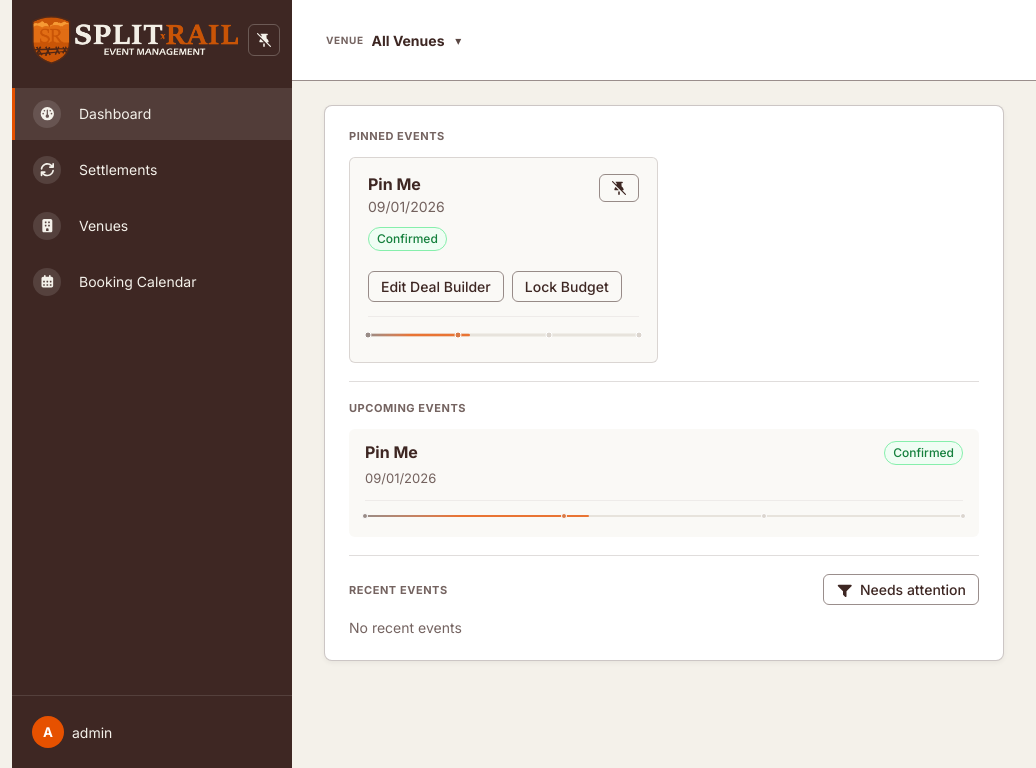
Scenario: DashboardOverviewPage › unpin removes event from pinned zone after refetch
The width and height of the screenshot is (1036, 768).
expect the heading "Pin Me" below "Pinned events" is shown: met, box [368,174,421,194]
Click the button named "Unpin event". click: click(619, 188)
box: [599,174,639,202]
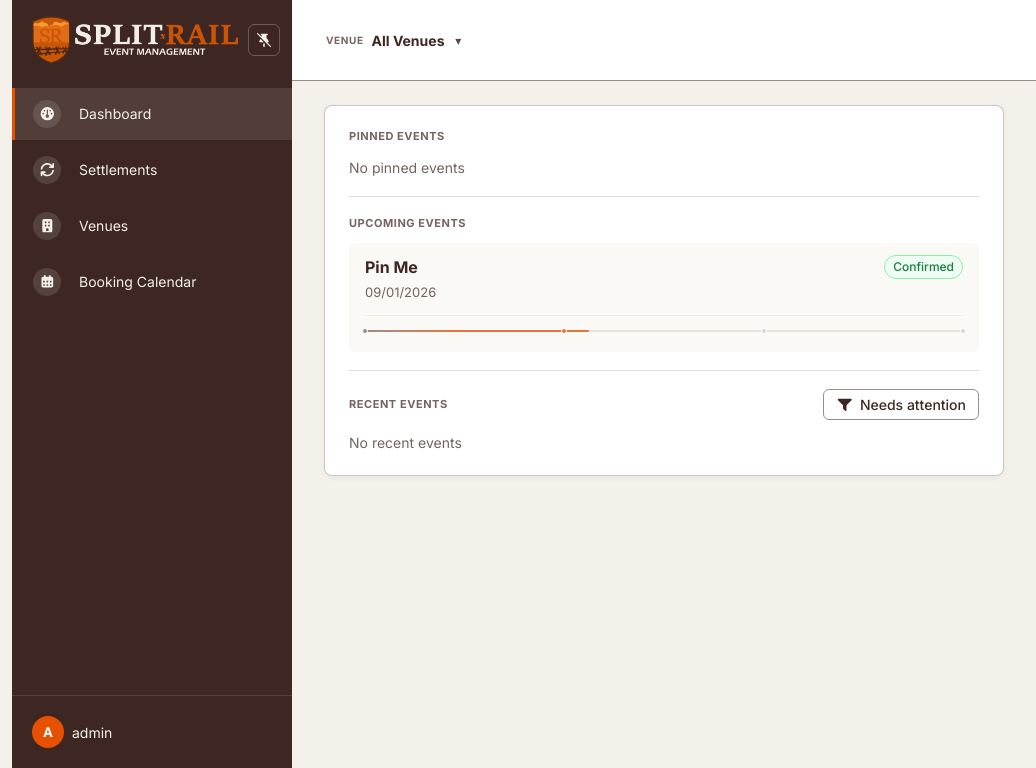
expect the text "No pinned events" is shown: met, box [349,158,465,176]
